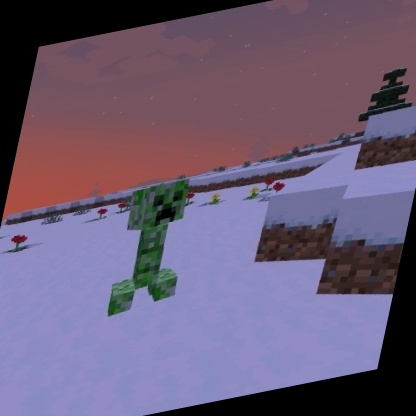creeper: (101, 171, 206, 321)
